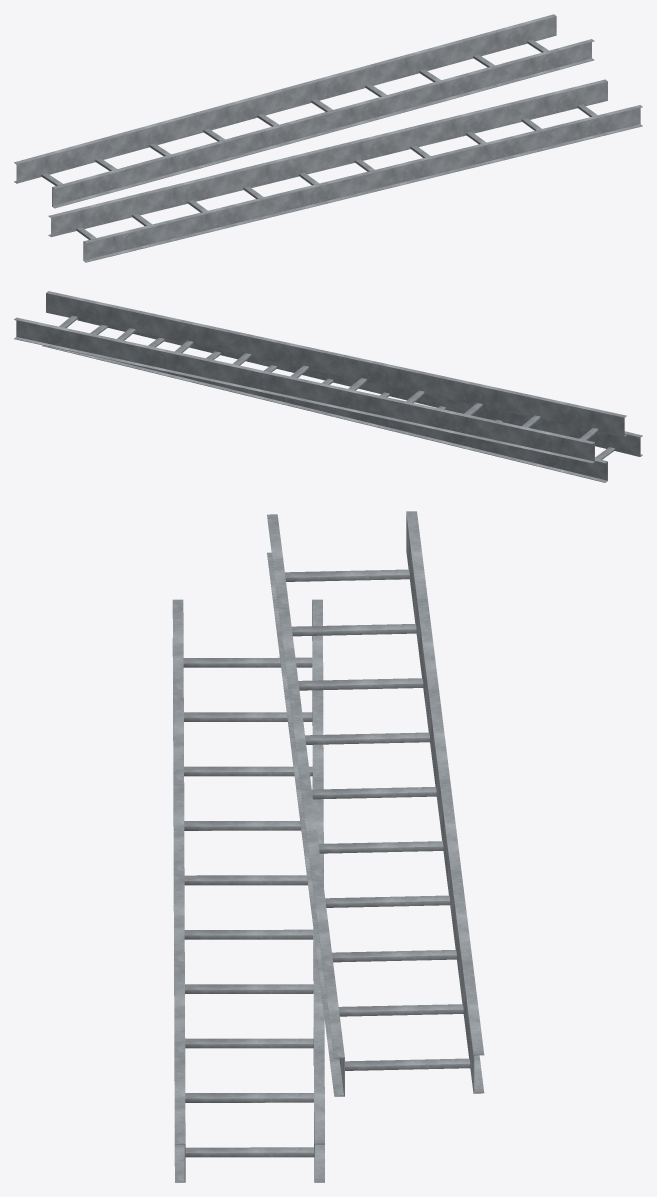
Rendered from ELE-ELD-007_anim.glb.
3 renders of one model, top to bottom at view 1: azimuth 30°, elevation 25°; view 2: azimuth 150°, elevation 25°; view 3: azimuth 270°, elevation 25°, orthographic. The views are drawn at different scales.
Visible parts, largest first — view 1: ELE-ELD-007_anim0, ELE-ELD-007_anim1; view 2: ELE-ELD-007_anim1, ELE-ELD-007_anim0; view 3: ELE-ELD-007_anim1, ELE-ELD-007_anim0.
Part boxes in pixels (box(x1,y1,x2,y2)): ELE-ELD-007_anim0: box(48, 79, 642, 262); ELE-ELD-007_anim1: box(14, 14, 594, 208); ELE-ELD-007_anim1: box(14, 291, 626, 463); ELE-ELD-007_anim0: box(42, 319, 642, 482); ELE-ELD-007_anim1: box(267, 511, 484, 1096); ELE-ELD-007_anim0: box(172, 599, 324, 1182).
Size of the model in its own units: 3.06 by 0.3 by 0.7259.
Materials: 1 (1 with a texture image).
